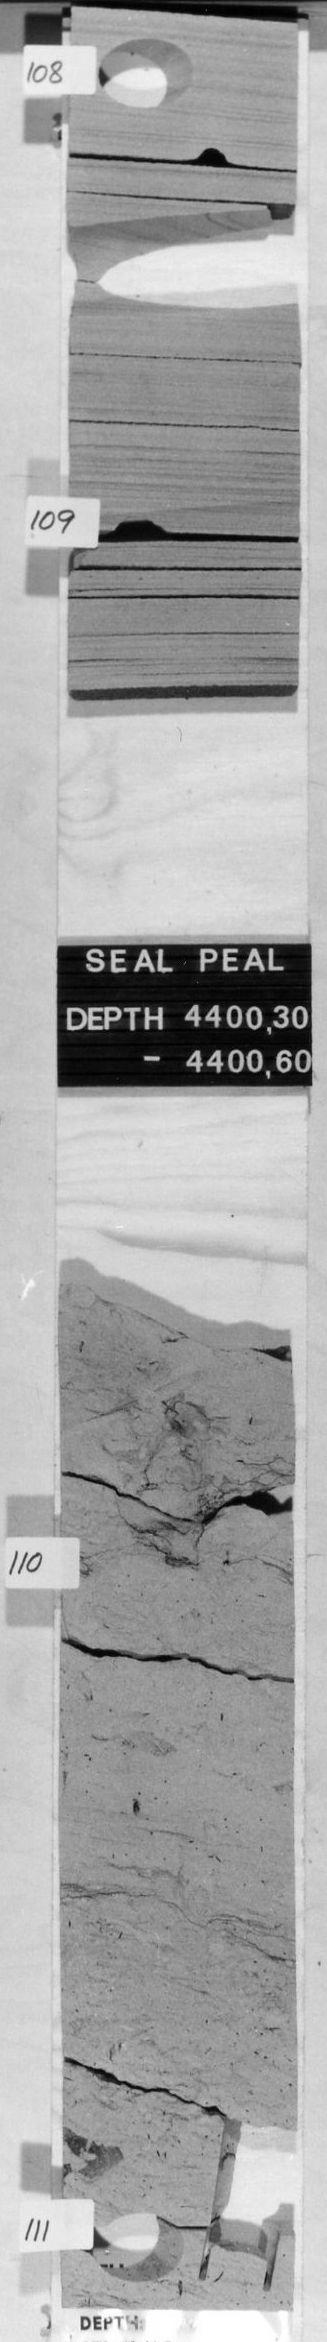hplug: (96, 34, 199, 112), (88, 2208, 190, 2282)
scal: (69, 205, 294, 318)
vplug: (196, 2116, 290, 2302)
